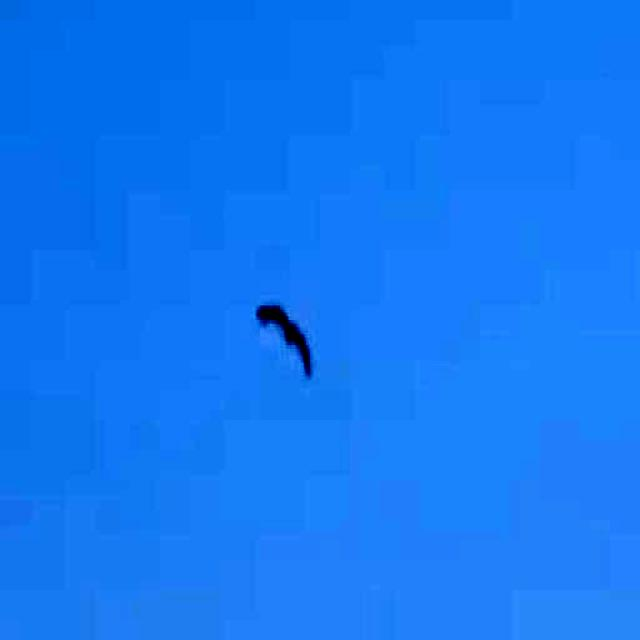airplane: (240, 276, 326, 386)
